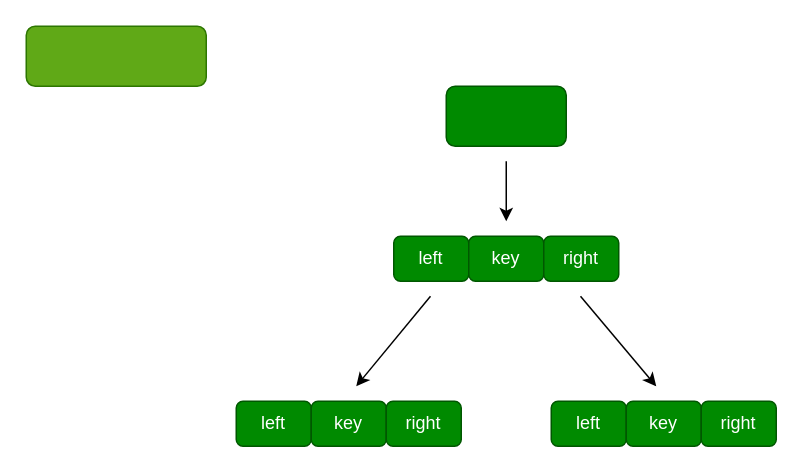
Image size: 803x473. Some labels were removed from this diagram. Here are the shapes that lost their labels. From the top down, the box of each, then its label:
(25, 25, 206, 86): 二叉树
(445, 85, 566, 146): root
